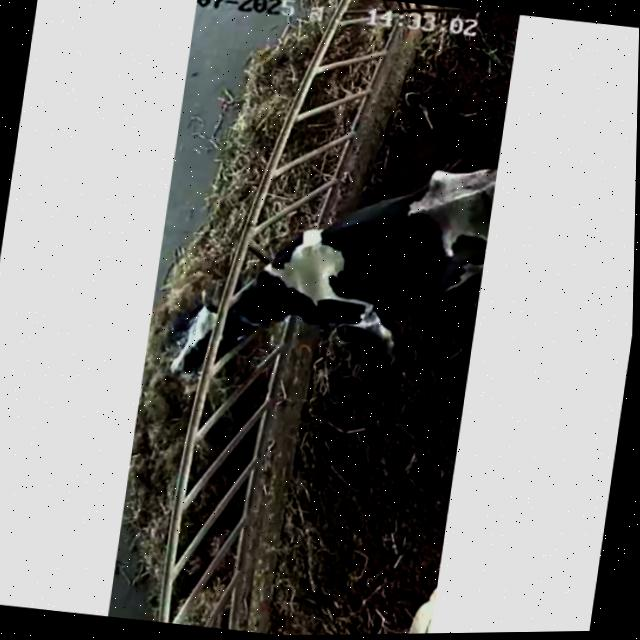eat: (138, 185, 403, 424)
